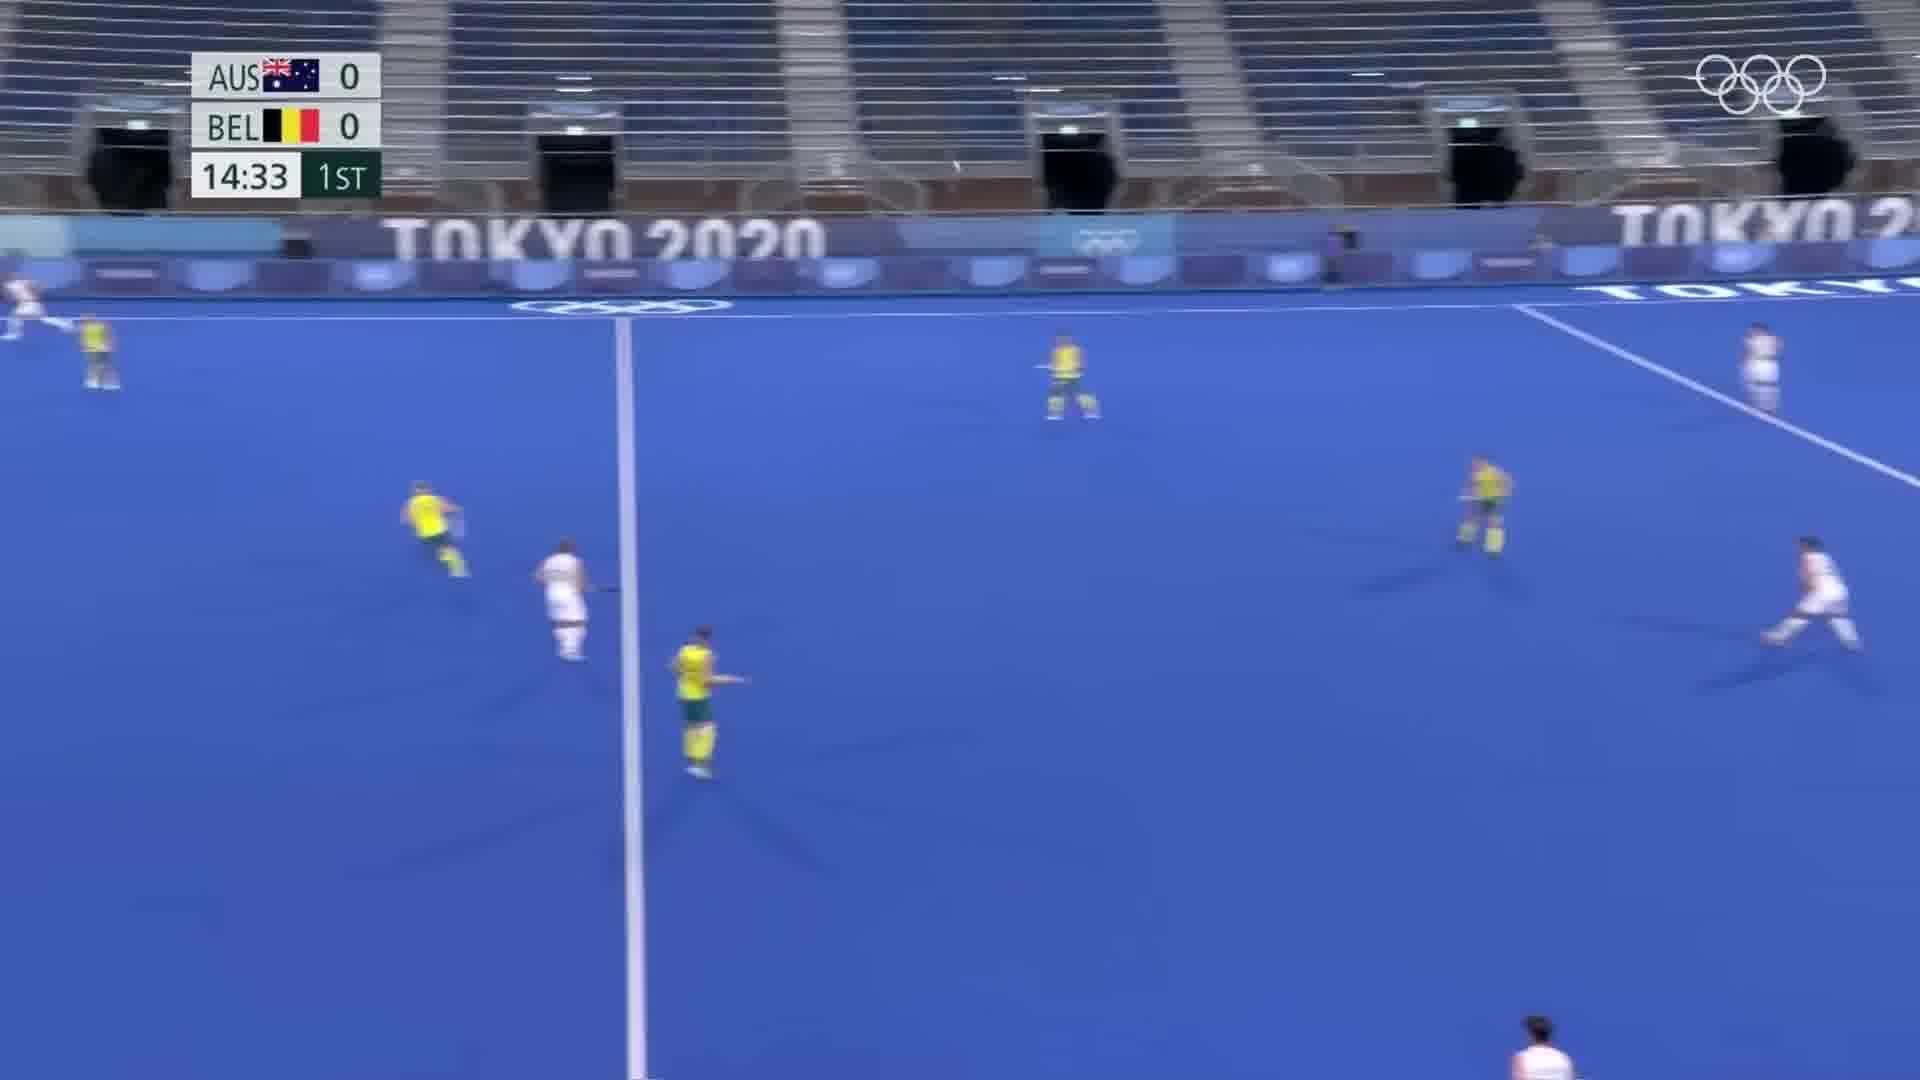ball: (934, 150, 973, 189)
